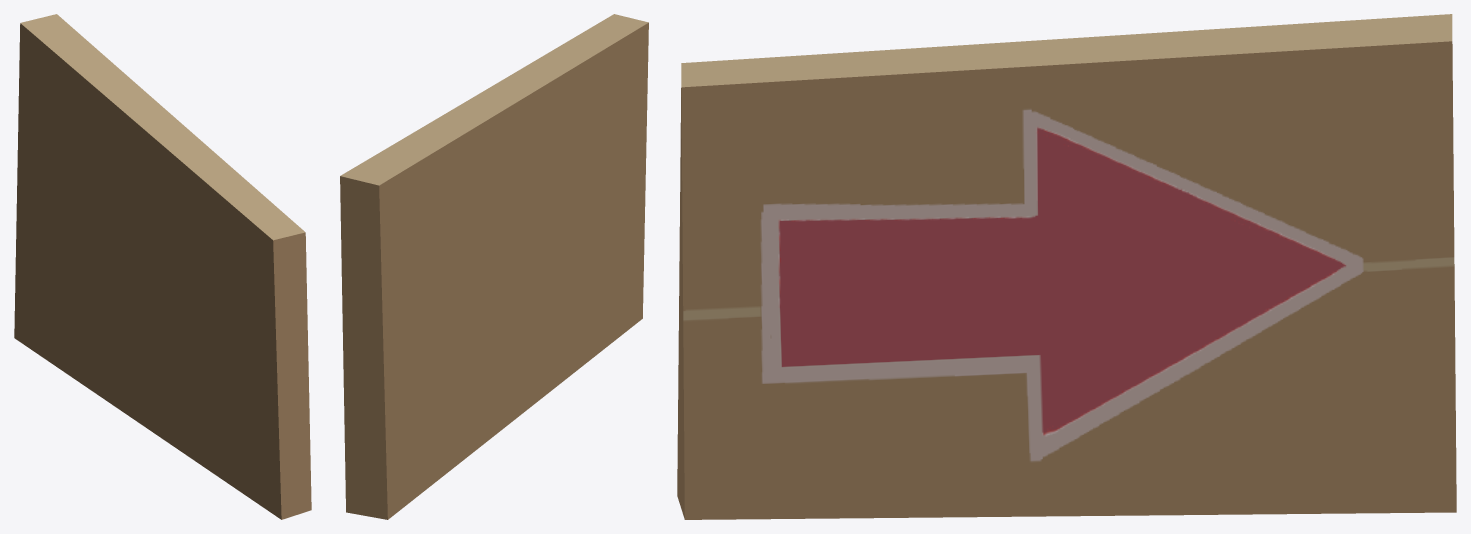
File: marioArrowSign.fbx
3 views of the same model, side by side, from view 1: azimuth 30°, elevation 25°; view 2: azimuth 150°, elevation 25°; view 3: azimuth 270°, elevation 25° (orthographic). The views are drawn at different scales.
Visible parts, largest first — view 1: Cube.002; view 2: Cube.002; view 3: Cube.002.
Part boxes in pixels (bbox=[...]): Cube.002: bbox=[14, 14, 311, 519]; Cube.002: bbox=[340, 14, 648, 519]; Cube.002: bbox=[677, 14, 1456, 519].
Bounding box in the file's own units: 30.82 × 197 × 292.
Materials: 1 (1 with a texture image).
